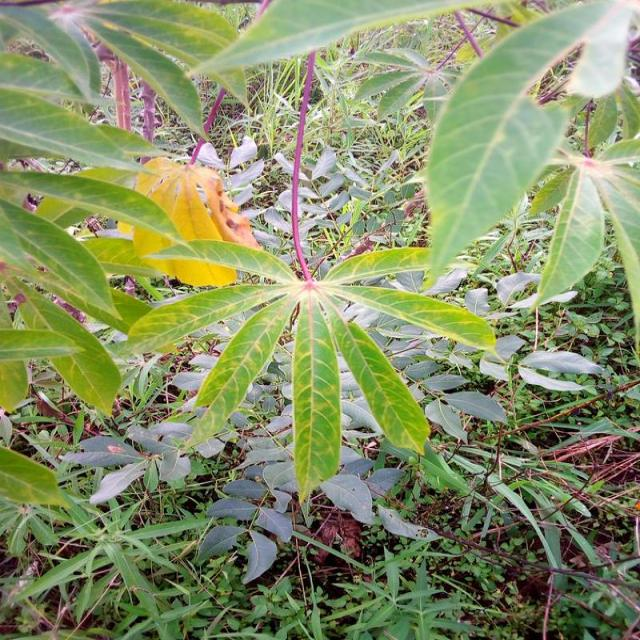cassava leaf: (422, 0, 635, 290), (130, 155, 238, 287), (291, 289, 341, 504)
